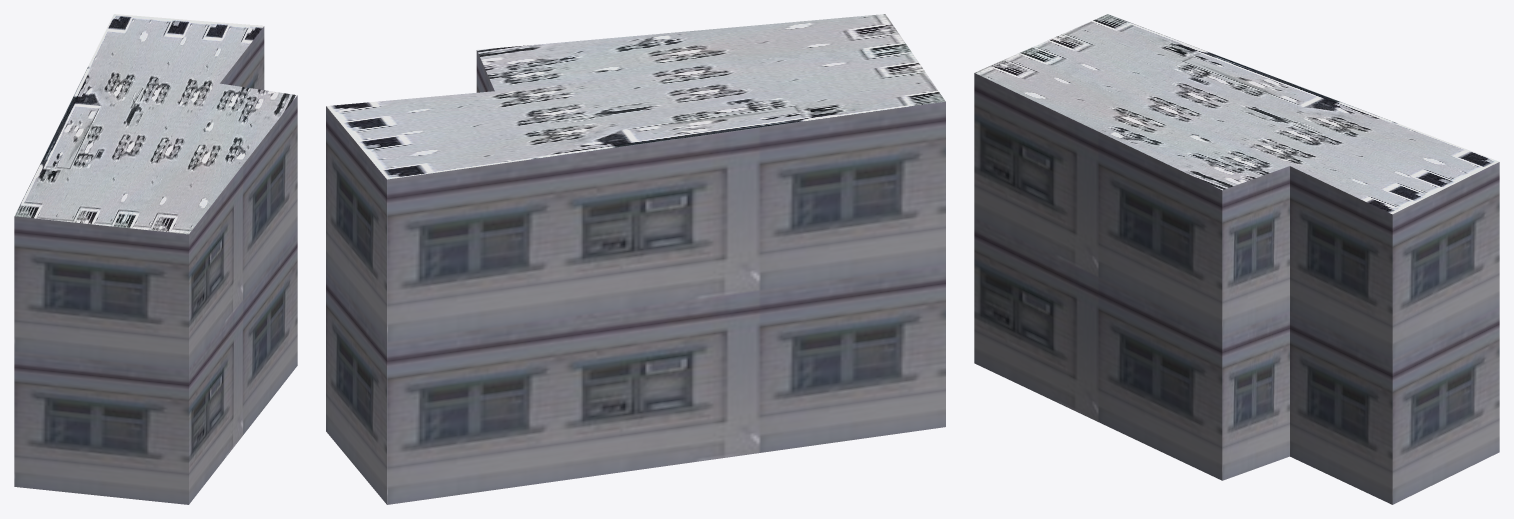
The model's file is ResTex__3081.fbx.
3 renders of one model, left to right at view 1: azimuth 30°, elevation 25°; view 2: azimuth 150°, elevation 25°; view 3: azimuth 270°, elevation 25°, orthographic. The views are drawn at different scales.
Parts seen in each view (by area): view 1: CityEngineMaterial_1_m, CityEngineMaterial_m; view 2: CityEngineMaterial_1_m, CityEngineMaterial_m; view 3: CityEngineMaterial_1_m, CityEngineMaterial_m.
Boxes of the visible parts, x1=… form: CityEngineMaterial_1_m: x1=14, y1=26, x2=297, y2=504; CityEngineMaterial_m: x1=15, y1=14, x2=297, y2=234; CityEngineMaterial_1_m: x1=326, y1=50, x2=945, y2=504; CityEngineMaterial_m: x1=326, y1=14, x2=945, y2=179; CityEngineMaterial_1_m: x1=974, y1=73, x2=1499, y2=504; CityEngineMaterial_m: x1=974, y1=14, x2=1499, y2=214.
Bounding box in the file's own units: 8.88 × 6 × 9.83.
2 materials, 2 textured.
